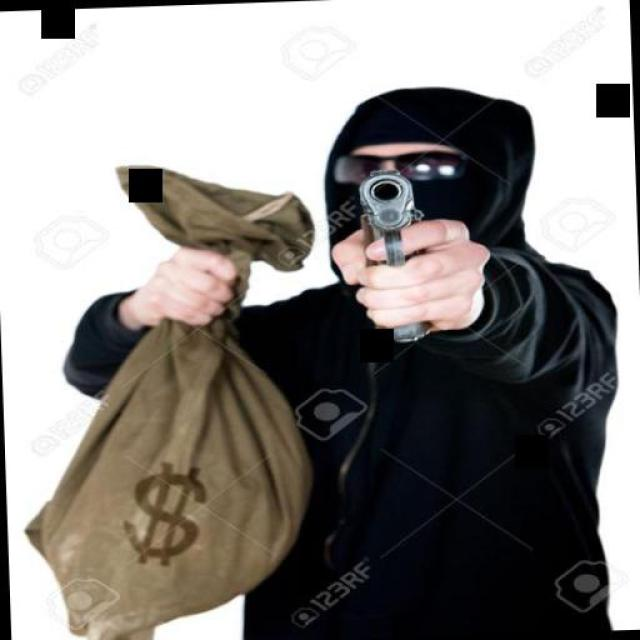gun: (344, 164, 431, 340)
